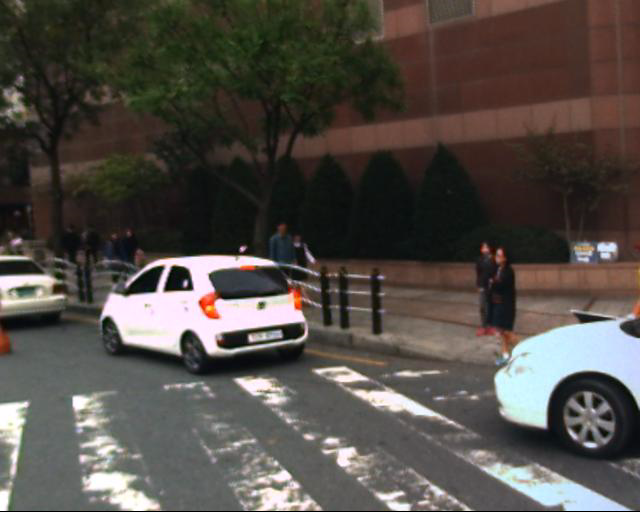person: (458, 237, 531, 377), (457, 235, 510, 343), (254, 209, 309, 303), (272, 218, 318, 317), (92, 215, 135, 297), (104, 213, 148, 289), (74, 210, 109, 277)
